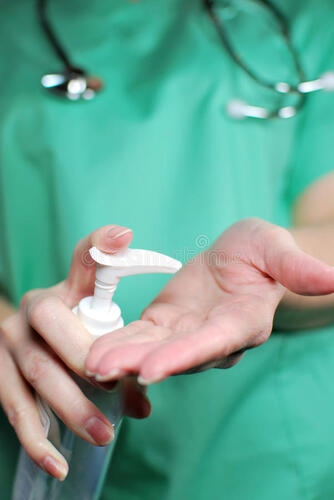sanitizer: (62, 241, 179, 468)
